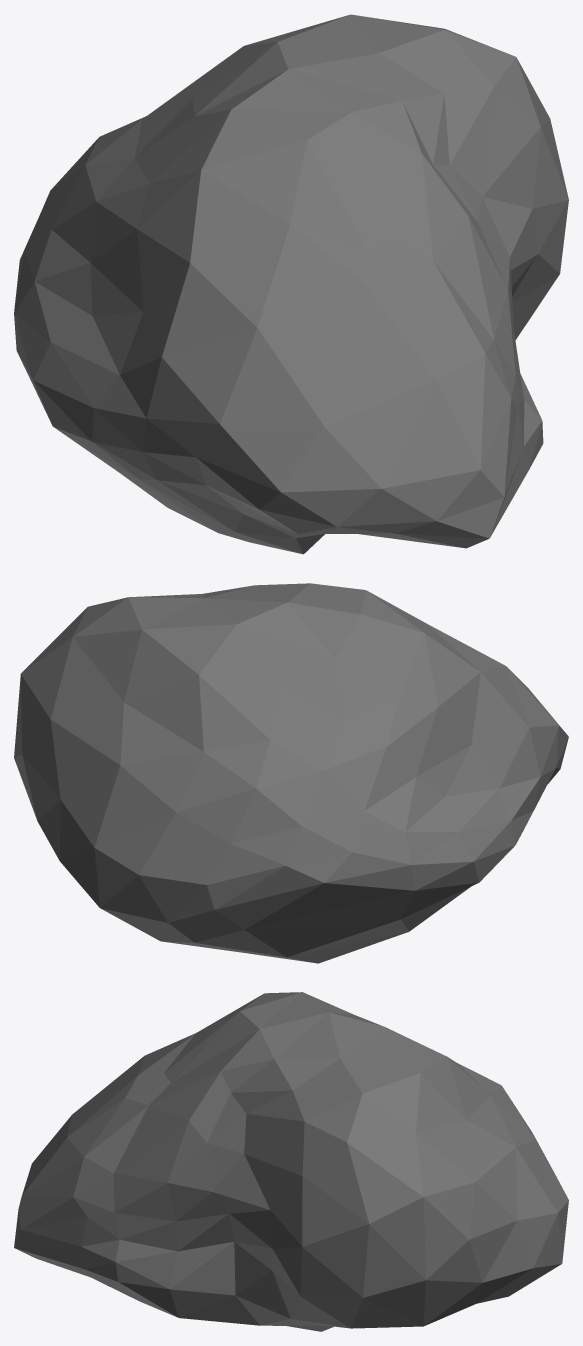
File: roca2.fbx
3 views of the same model, one above another, from view 1: azimuth 30°, elevation 25°; view 2: azimuth 150°, elevation 25°; view 3: azimuth 270°, elevation 25° (orthographic). The views are drawn at different scales.
Visible parts, largest first — view 1: roca2; view 2: roca2; view 3: roca2.
Part boxes in pixels (x1,y1,x2,y2): roca2: [14, 14, 568, 554]; roca2: [14, 583, 568, 963]; roca2: [14, 992, 568, 1331].
Size of the model in its own units: 20.58 by 15.99 by 24.55.
